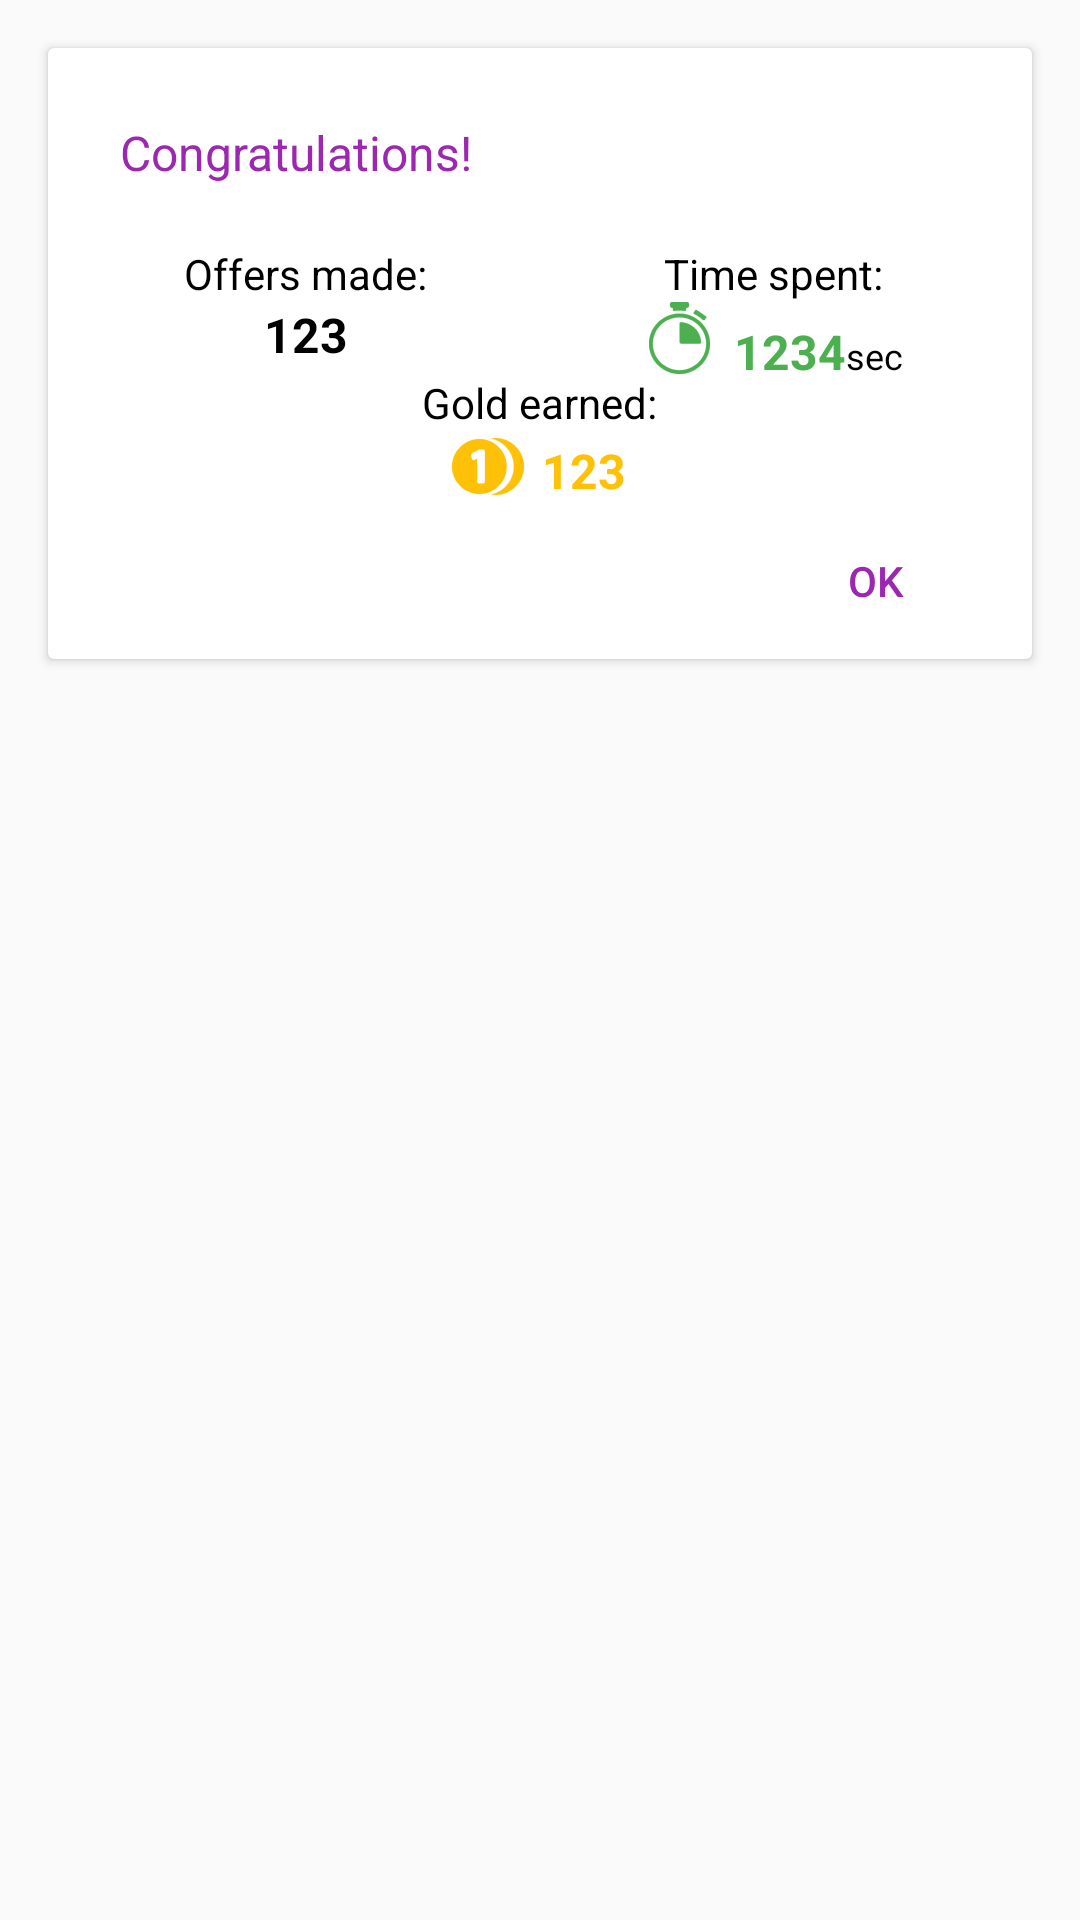

Icon bounding boxes for this 1080*1920 phone screenshot, format (x1, y1, x2, y2):
clock: (649, 302, 710, 374)
coins: (452, 438, 524, 495)
